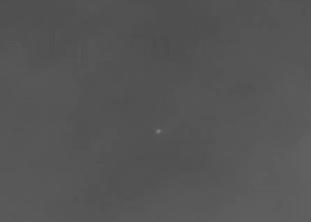Target: (156, 130, 161, 132)
